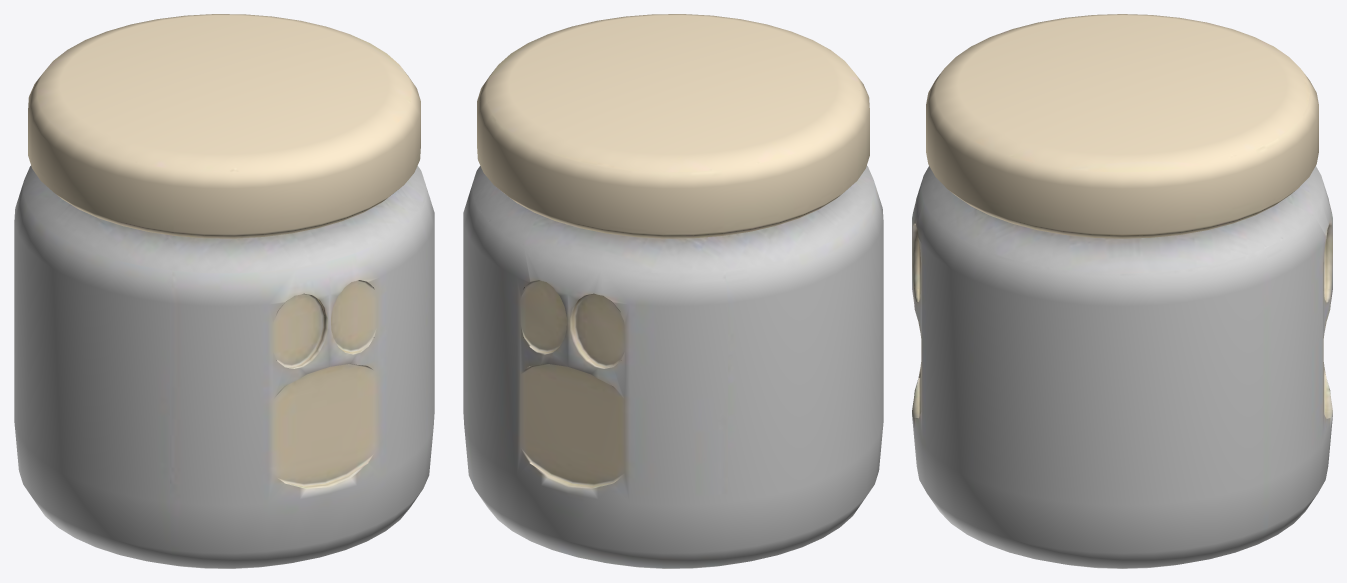
Rendered from kav1.glb.
3 renders of one model, left to right at view 1: azimuth 30°, elevation 25°; view 2: azimuth 150°, elevation 25°; view 3: azimuth 270°, elevation 25°, orthographic.
Visible parts, largest first — view 1: kavanoz; view 2: kavanoz; view 3: kavanoz.
Boxes of the visible parts, x1=… form: kavanoz: x1=14, y1=14, x2=434, y2=568; kavanoz: x1=463, y1=14, x2=883, y2=568; kavanoz: x1=912, y1=14, x2=1332, y2=568.
Size of the model in its own units: 0.92 by 1 by 0.92.
Materials: 4 (4 with a texture image).
